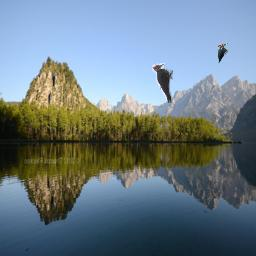Woodpecker: (152, 63, 173, 103), (217, 43, 228, 63)
